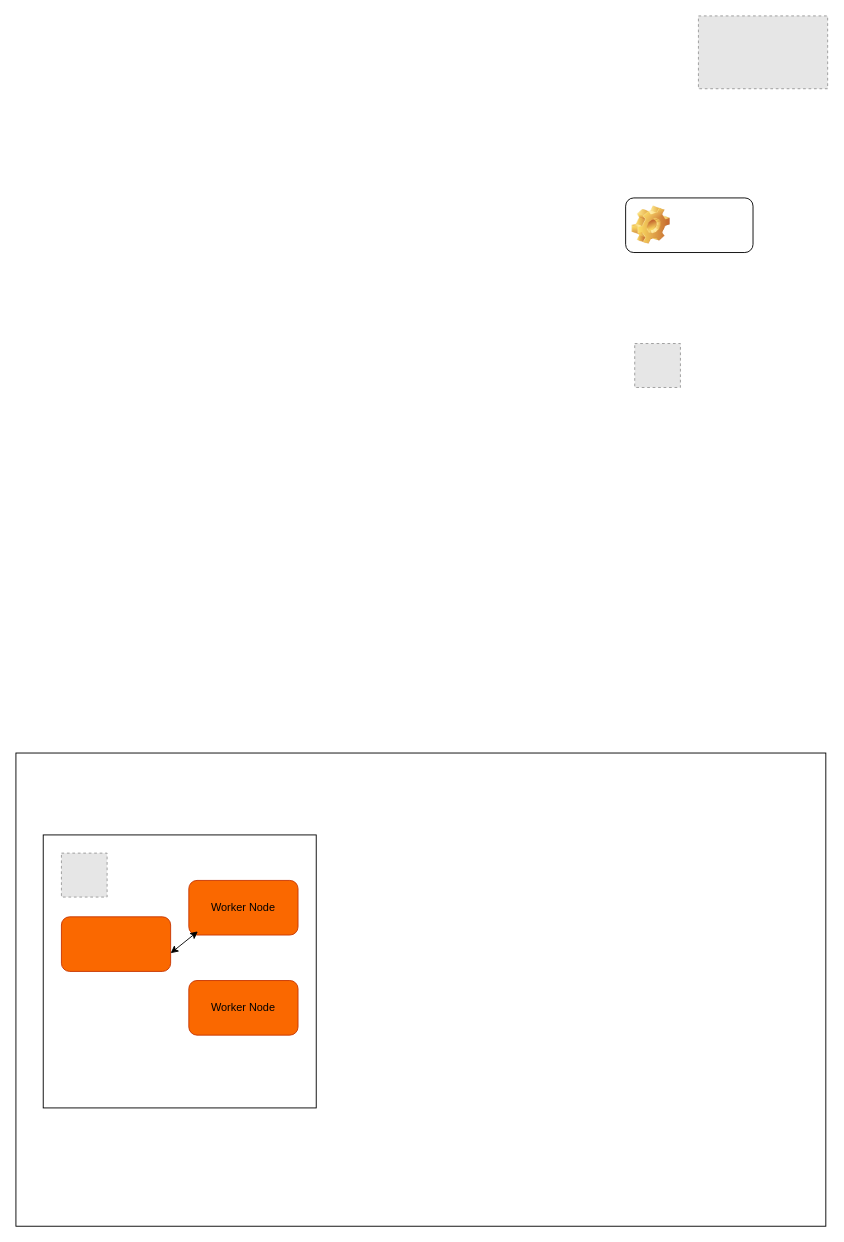
Image size: 844x1242. Some labels were removed from this diagram. Grey dashed boxes stand in for pictures. The box of each missing label's shape, as (x1, y1, x2, y2) in pixels:
Master Node: (61, 916, 171, 971)
Spark Master: (625, 197, 753, 253)
